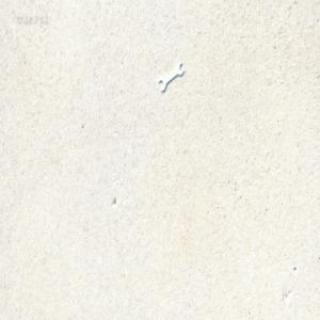Wrenchtrack_idkeyframe: (158, 59, 182, 92)
